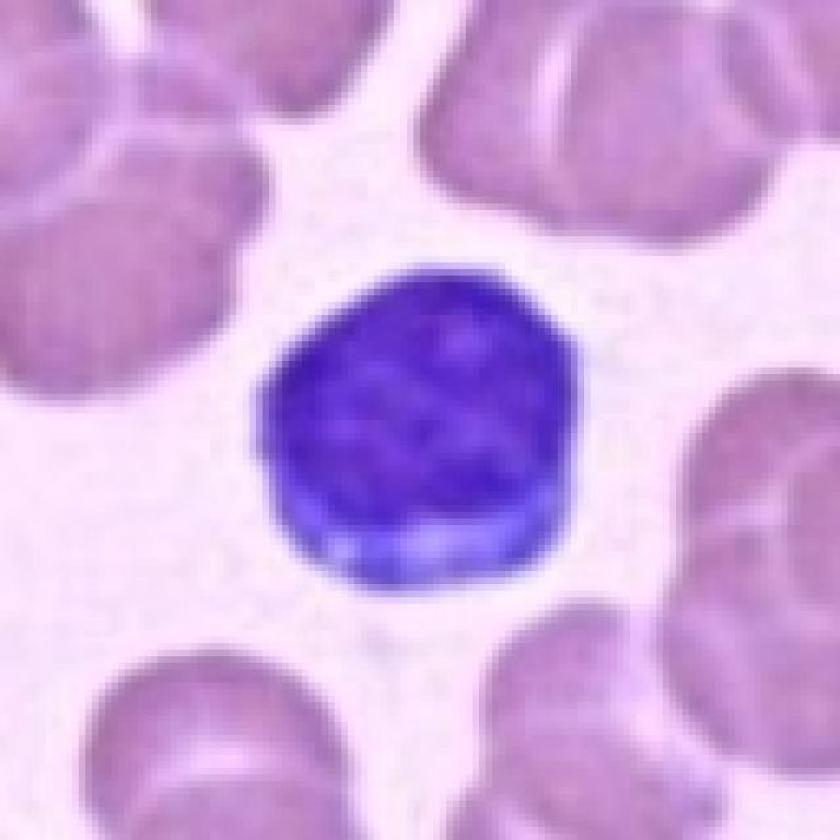lymphocyte: (245, 252, 585, 605)
